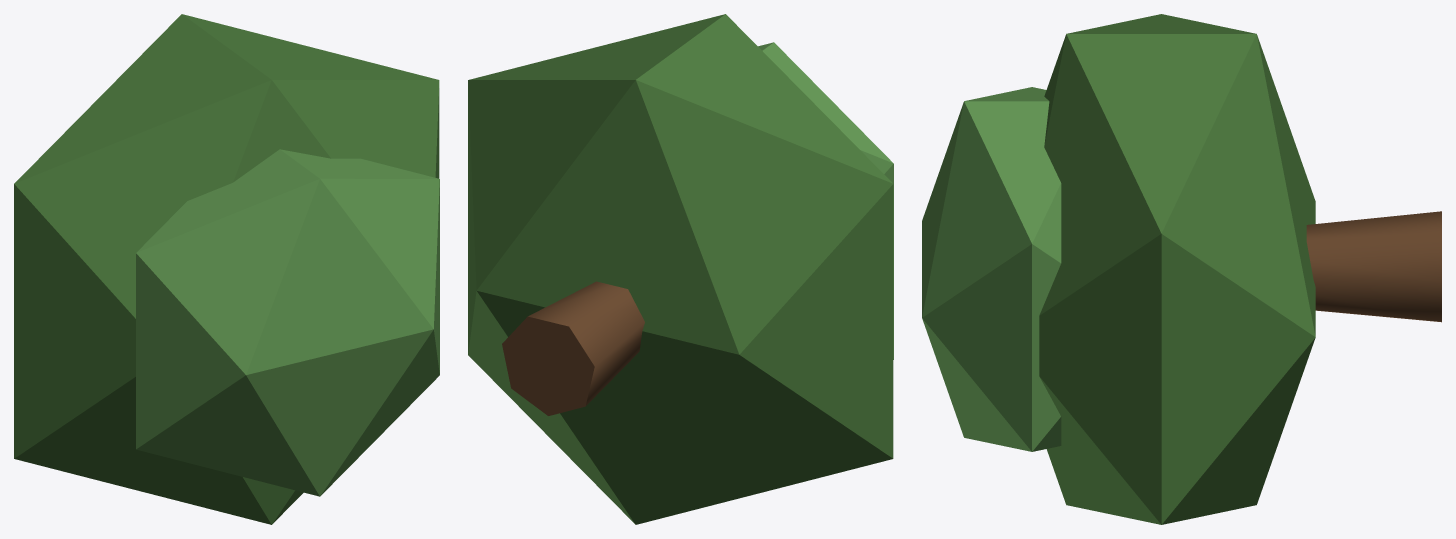
Rendered from tree.glb.
3 views of the same model, side by side, from view 1: azimuth 30°, elevation 25°; view 2: azimuth 150°, elevation 25°; view 3: azimuth 270°, elevation 25° (orthographic). The views are drawn at different scales.
Size of the model in its own units: 1 by 1 by 1.
